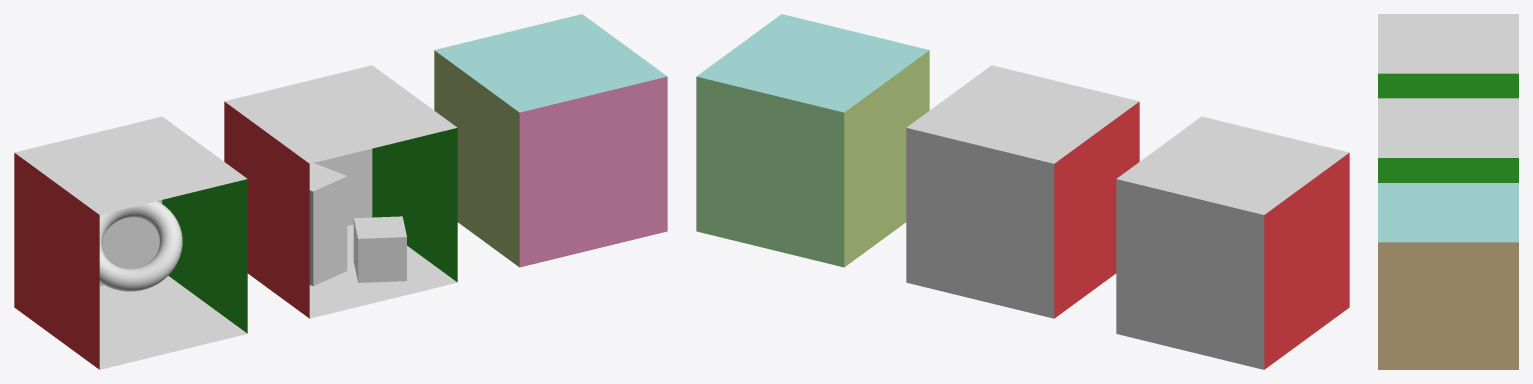
The model's file is cornell_custom.glb.
3 views of the same model, side by side, from view 1: azimuth 30°, elevation 25°; view 2: azimuth 150°, elevation 25°; view 3: azimuth 270°, elevation 25° (orthographic). The views are drawn at different scales.
Parts seen in each view (by area): view 1: Cube.006, Cube.001, Cube, Cube.002, Torus.001, Cube.003; view 2: Cube.001, Cube.006, Cube; view 3: Cube.006, Cube, Cube.001.
Boxes of the visible parts, box(x1,y1,x2,y2) form: Cube.006: box(434, 14, 667, 267); Cube.001: box(14, 116, 247, 369); Cube: box(224, 65, 457, 318); Cube.002: box(309, 163, 347, 286); Torus.001: box(99, 201, 182, 291); Cube.003: box(353, 216, 406, 282); Cube.001: box(1116, 116, 1349, 369); Cube.006: box(696, 14, 929, 267); Cube: box(906, 65, 1139, 318); Cube.006: box(1378, 183, 1518, 369); Cube: box(1378, 98, 1518, 182); Cube.001: box(1378, 14, 1518, 98).
Bounding box in the file's own units: 21.64 × 5.66 × 5.64.
